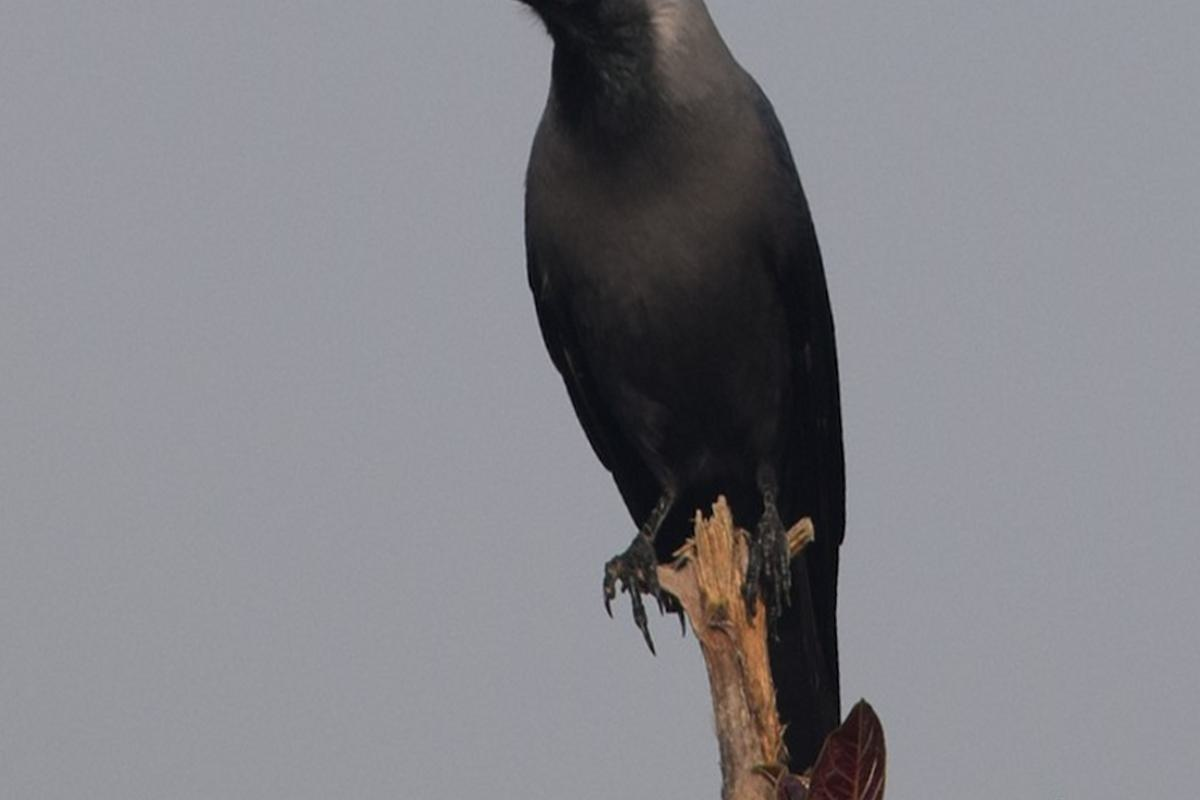crow: (484, 5, 909, 797)
